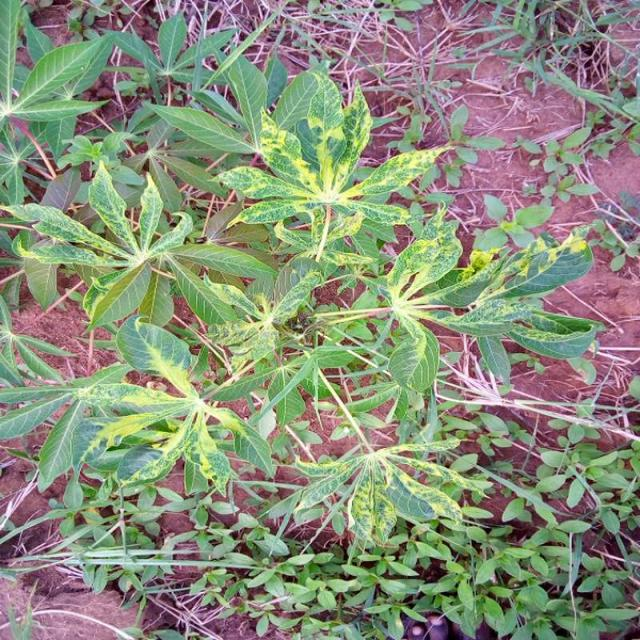cassava leaf: (2, 19, 608, 557)
